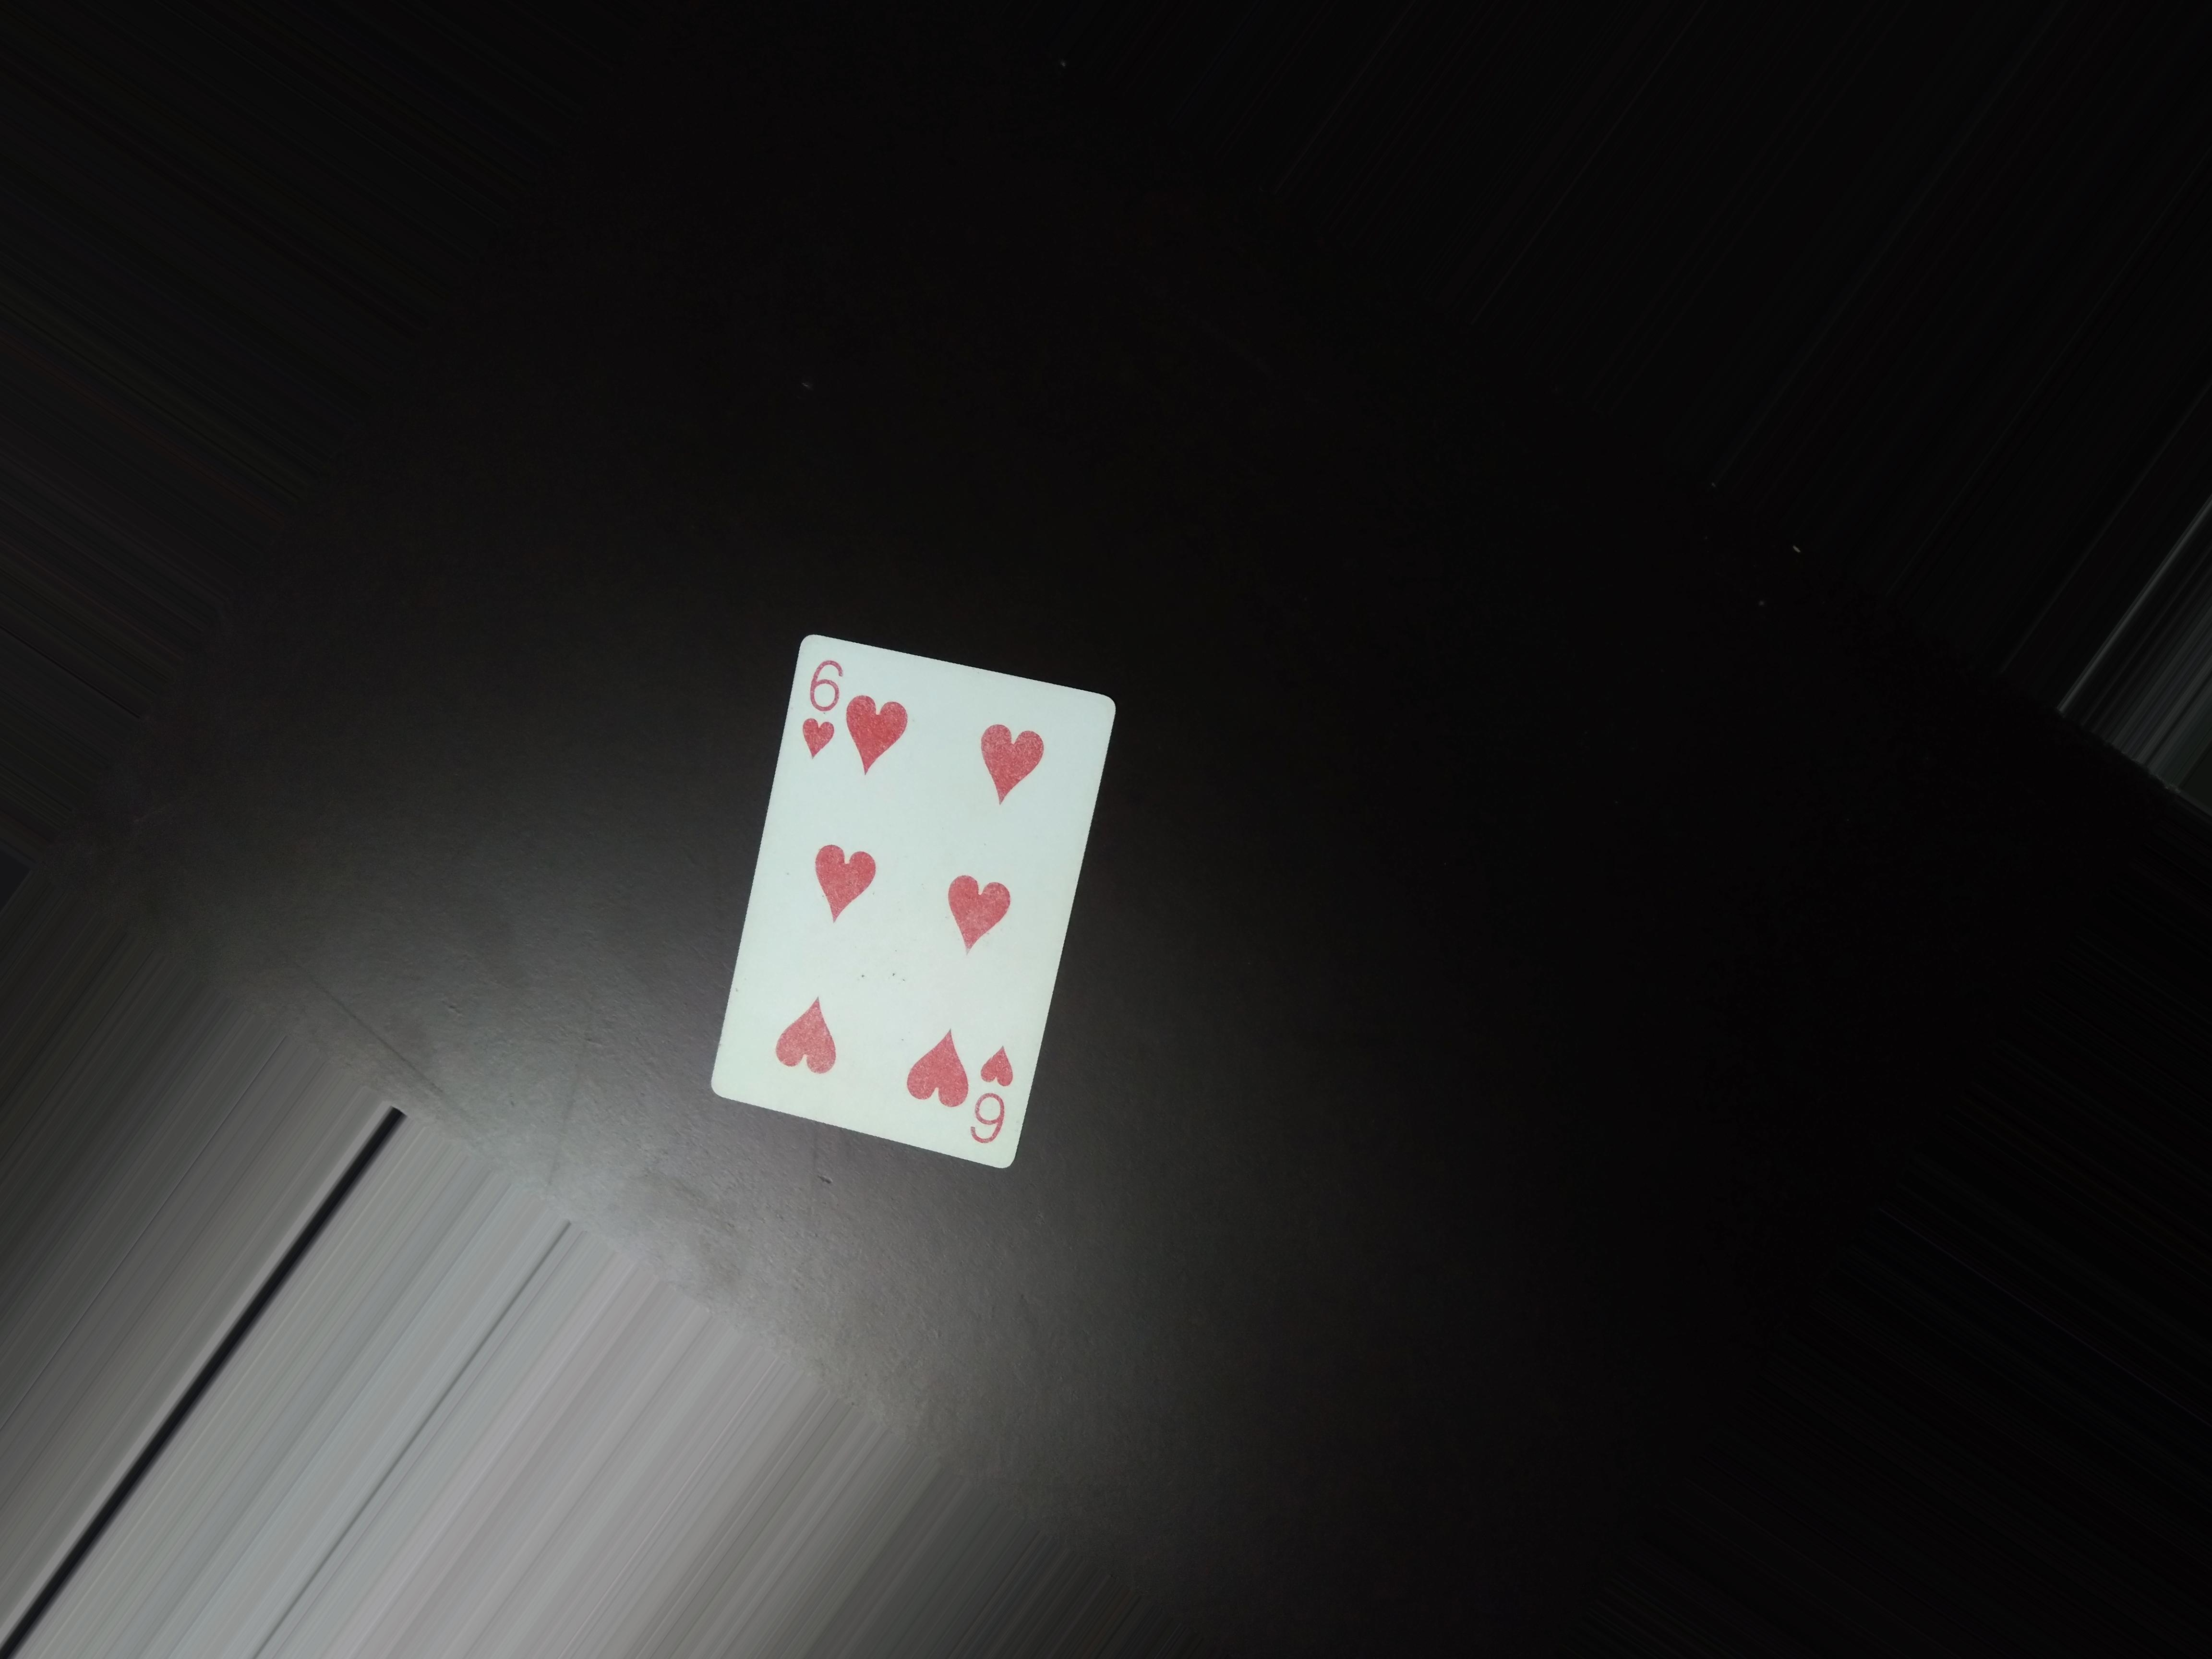6H: (796, 647, 846, 763)
